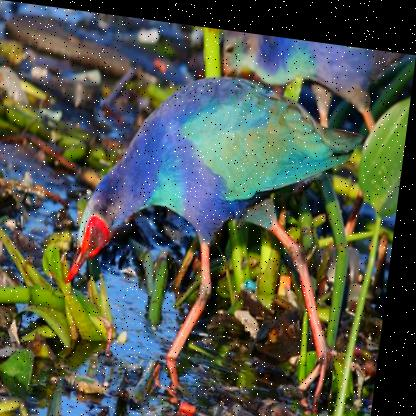Burung: (59, 54, 376, 398)
